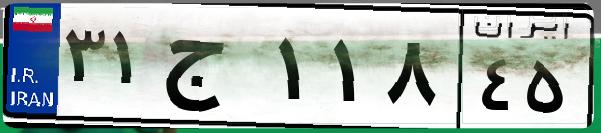1: (270, 28, 330, 110), (330, 28, 385, 110), (110, 28, 158, 98)
3: (57, 26, 110, 100)
4: (475, 38, 525, 113)
5: (525, 38, 570, 115)
8: (385, 28, 445, 110)
ج: (158, 20, 270, 120)
